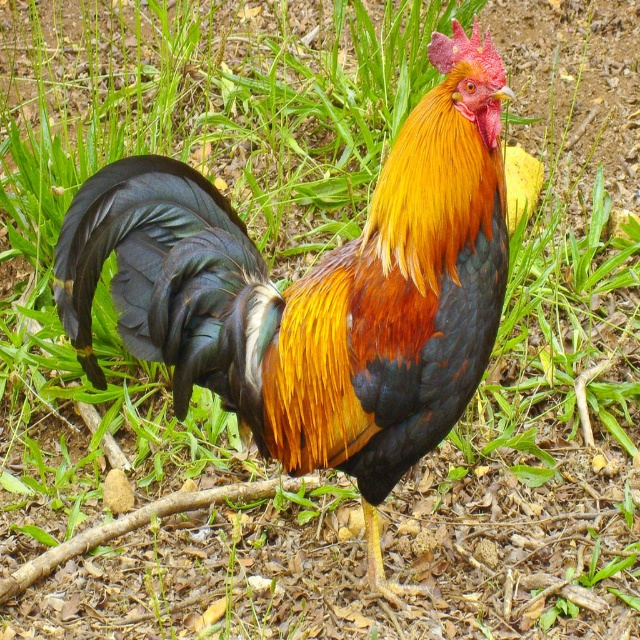Chicken: (78, 17, 524, 608)
